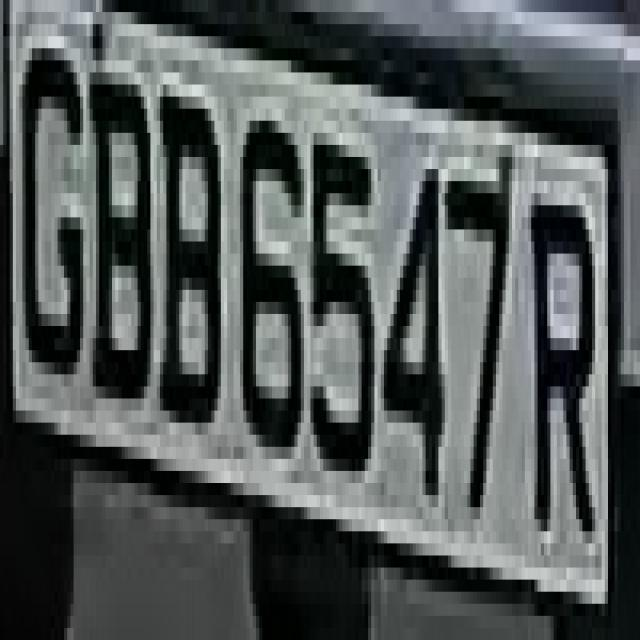4: (374, 121, 454, 531)
5: (300, 97, 378, 507)
6: (237, 60, 317, 508)
7: (454, 120, 516, 580)
B: (144, 72, 237, 447), (90, 24, 156, 435)
G: (16, 0, 83, 411)
R: (525, 157, 614, 580)
